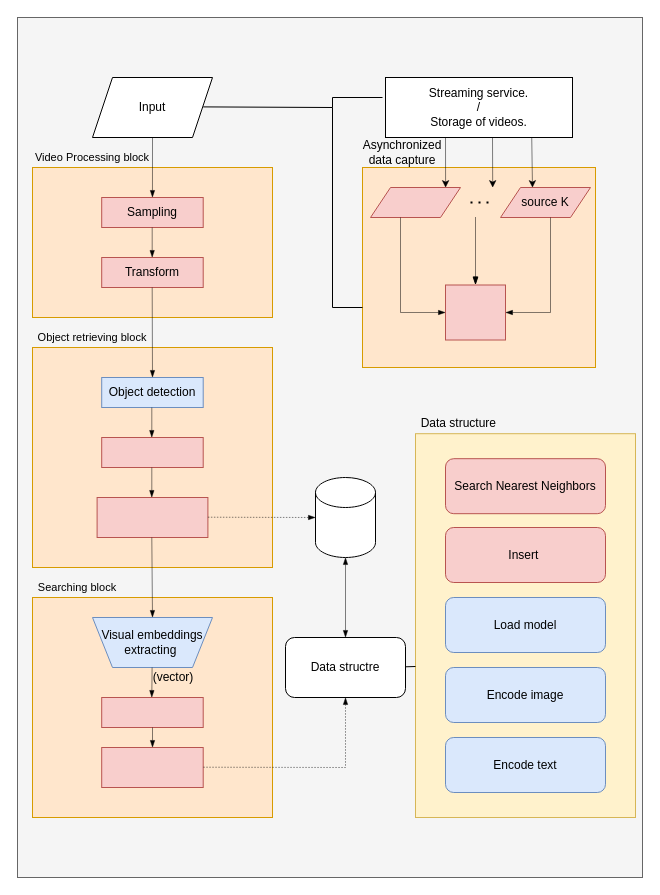
Image size: 660x895. Some labels were removed from this diagram. Here are the shapes that lost their labels. From the top down, the centre of each, then its label:
At point (415, 202): "source 1".
At point (475, 312): "Video fragments".
At point (152, 452): "Object retrieval".
At point (152, 517): "Events and entities generation".
At point (345, 517): "Database".
At point (152, 712): "Bucket selection".
At point (152, 767): "Insertion into a Data Structure".
